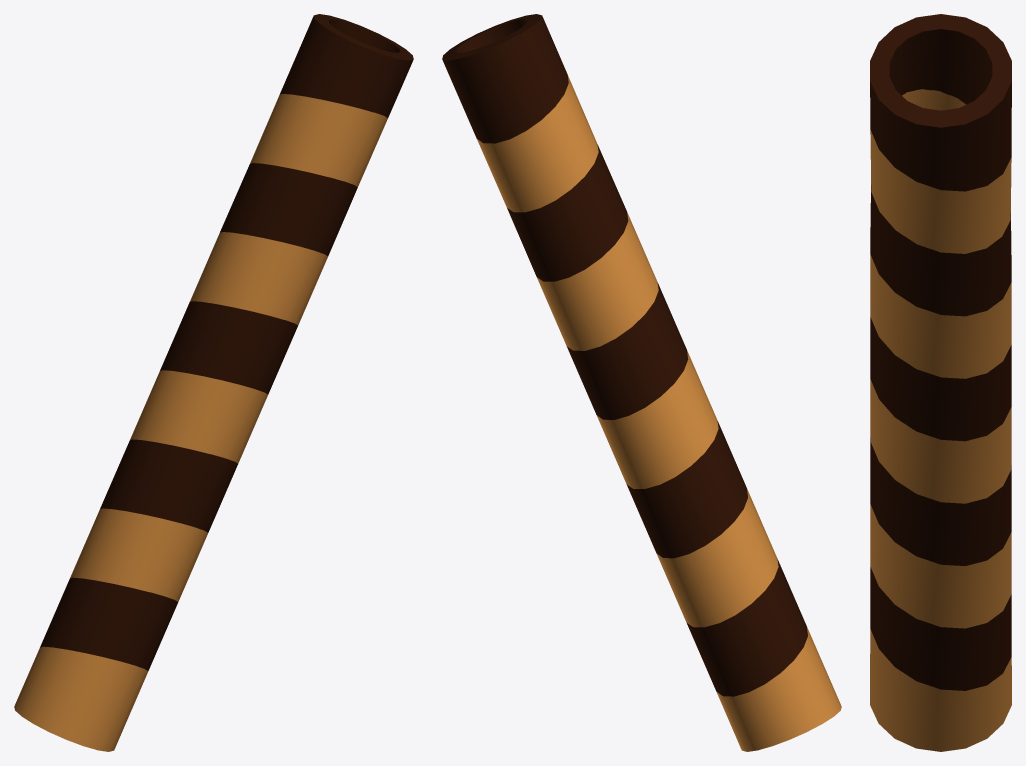
Rendered from prison_snack_item.FBX.
3 views of the same model, side by side, from view 1: azimuth 30°, elevation 25°; view 2: azimuth 150°, elevation 25°; view 3: azimuth 270°, elevation 25° (orthographic). The views are drawn at different scales.
Parts seen in each view (by area): view 1: Object; view 2: Object; view 3: Object.
Part boxes in pixels (x1,y1,x2,y2): Object: (14,14,413,751); Object: (442,14,841,751); Object: (870,14,1011,751).
Size of the model in its own units: 8.69 by 14.32 by 2.1.
